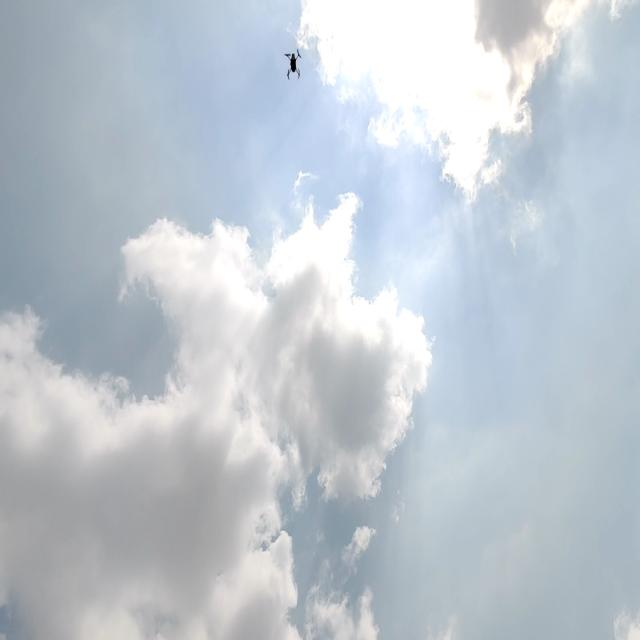drone: (275, 43, 313, 92)
